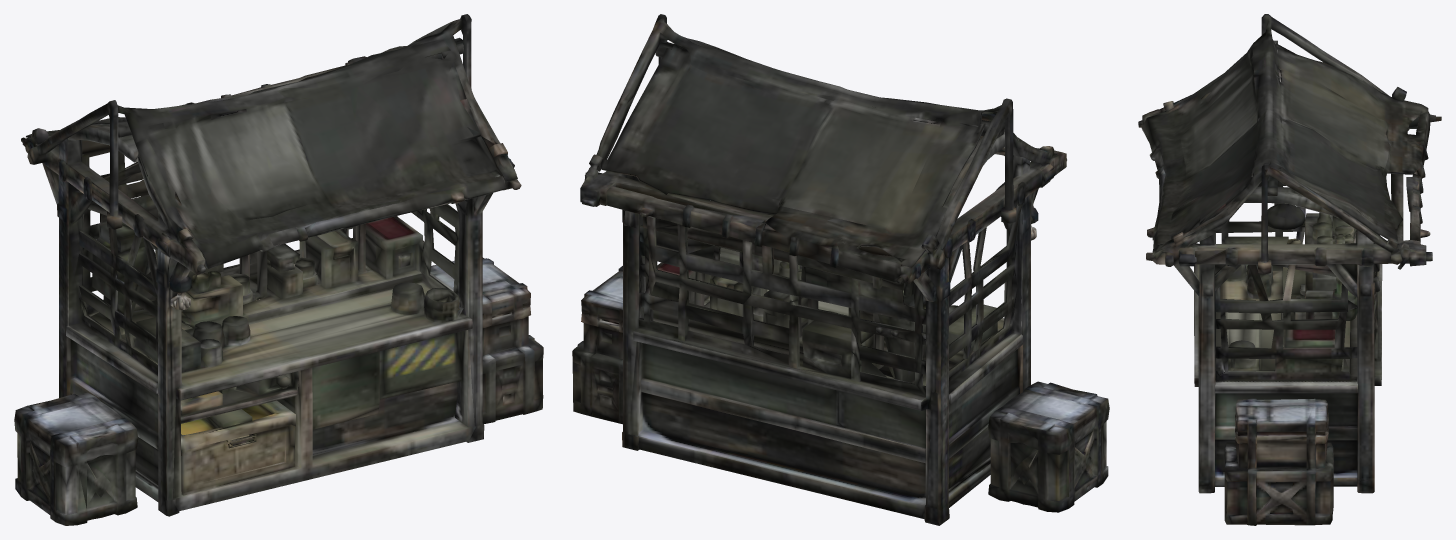
File: stall_trader.glb
The picture shows the model from 3 angles, left to right: view 1: azimuth 30°, elevation 25°; view 2: azimuth 150°, elevation 25°; view 3: azimuth 270°, elevation 25°; orthographic projection. The views are drawn at different scales.
Visible parts, largest first — view 1: Model; view 2: Model; view 3: Model.
Boxes of the visible parts, box(x1,y1,x2,y2) form: Model: box(14, 14, 543, 525); Model: box(572, 14, 1109, 525); Model: box(1138, 14, 1441, 525).
Size of the model in its own units: 4.2 by 3.21 by 2.6.
1 material, 1 textured.
